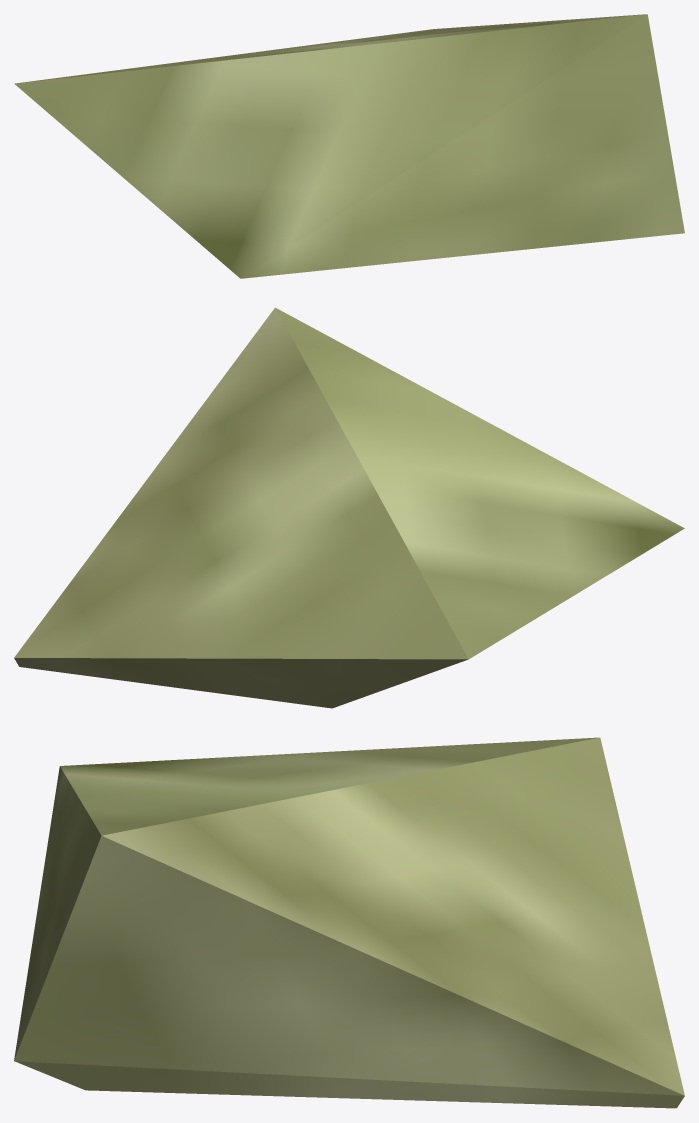
3 renders of one model, top to bottom at view 1: azimuth 30°, elevation 25°; view 2: azimuth 150°, elevation 25°; view 3: azimuth 270°, elevation 25°, orthographic. The views are drawn at different scales.
Size of the model in its own units: 0.1045 by 0.0472 by 0.1127.
1 material, 1 textured.
